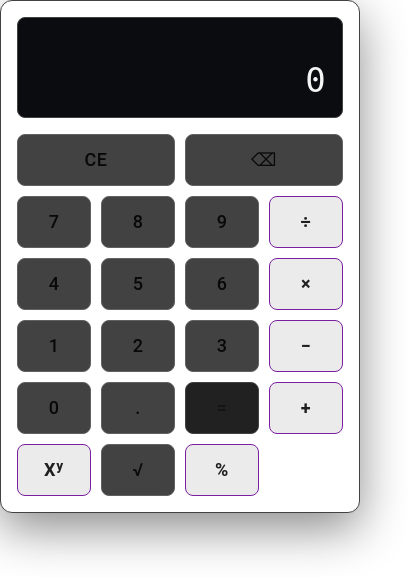
Test case: Calculator › performs a successful binary calculation
Click the button "1" at point(54, 346), box [17,320,91,372]
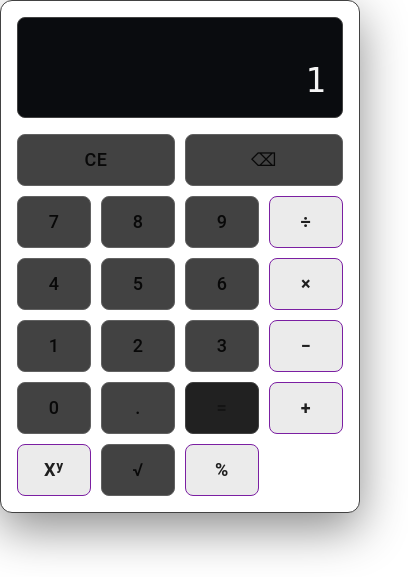
Click the button "0" at point(54, 408), box [17,382,91,434]
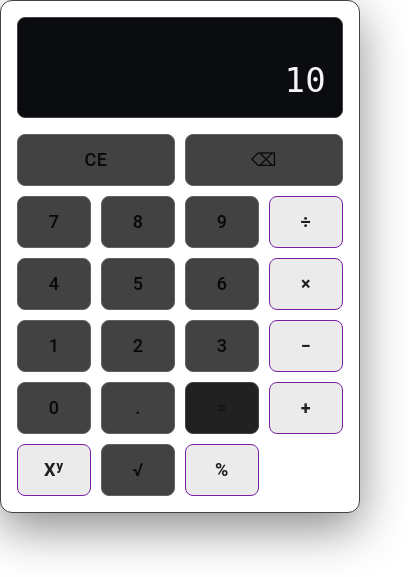
Click the button "+" at point(306, 408), box [269,382,343,434]
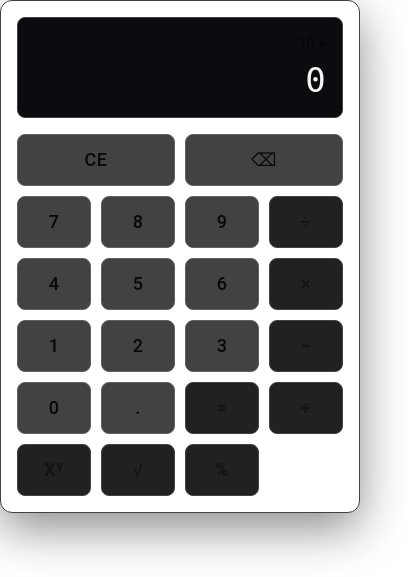
Click the button "5" at point(138, 284), box [101,258,175,310]
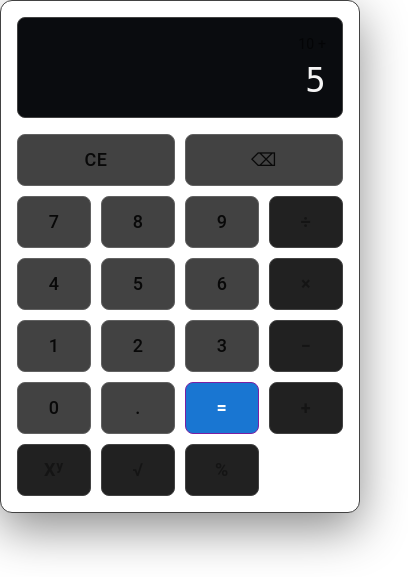
Click the button named "Equals" at point(222, 408), box [185,382,259,434]
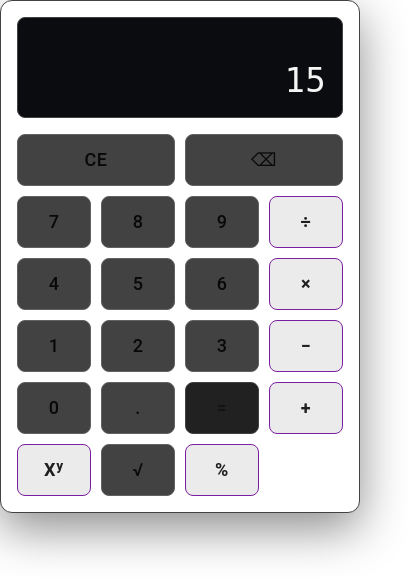
Expected: the heading with test id "calculator-display" reads "15", [284,60,326,100]
